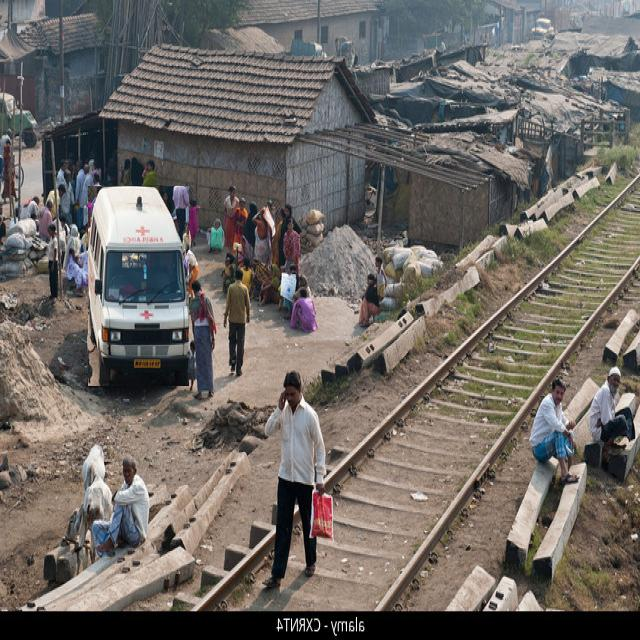emergency: (88, 187, 189, 386)
